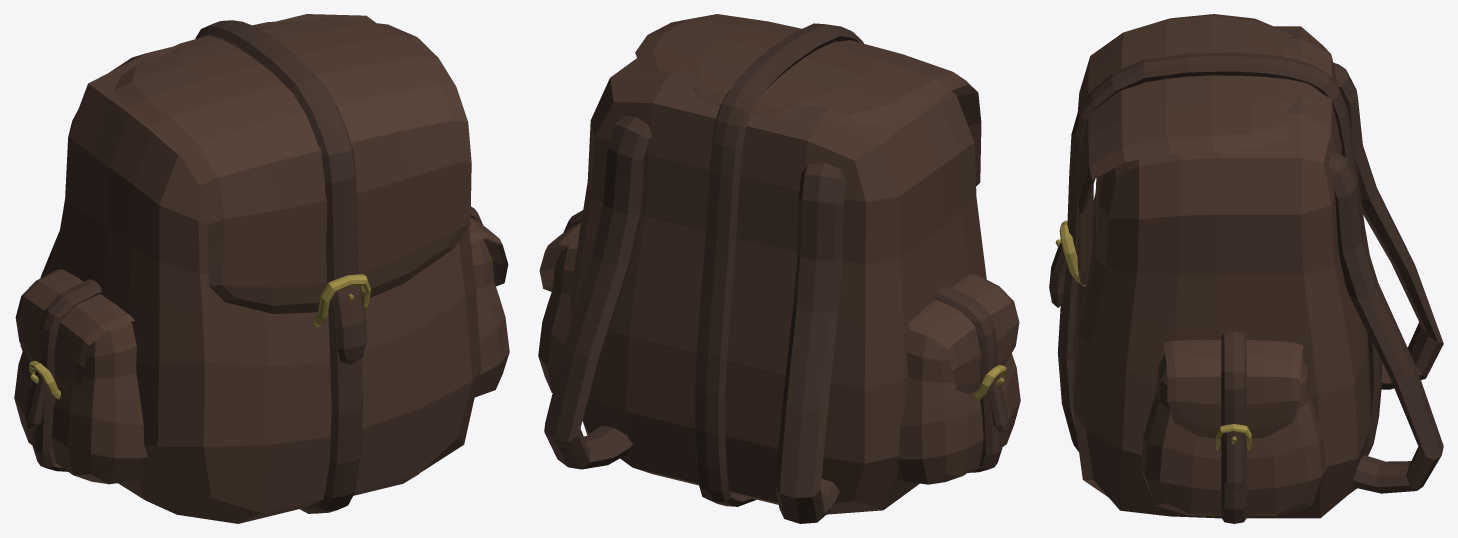
File: backpack.glb
3 renders of one model, left to right at view 1: azimuth 30°, elevation 25°; view 2: azimuth 150°, elevation 25°; view 3: azimuth 270°, elevation 25°, orthographic. The views are drawn at different scales.
Parts seen in each view (by area): view 1: Backpack; view 2: Backpack; view 3: Backpack.
Part boxes in pixels (<box>): Backpack: <box>14,14,509,523</box>; Backpack: <box>538,14,1020,523</box>; Backpack: <box>1049,14,1443,523</box>.
Bounding box in the file's own units: 1.07 × 0.9506 × 0.8038.
